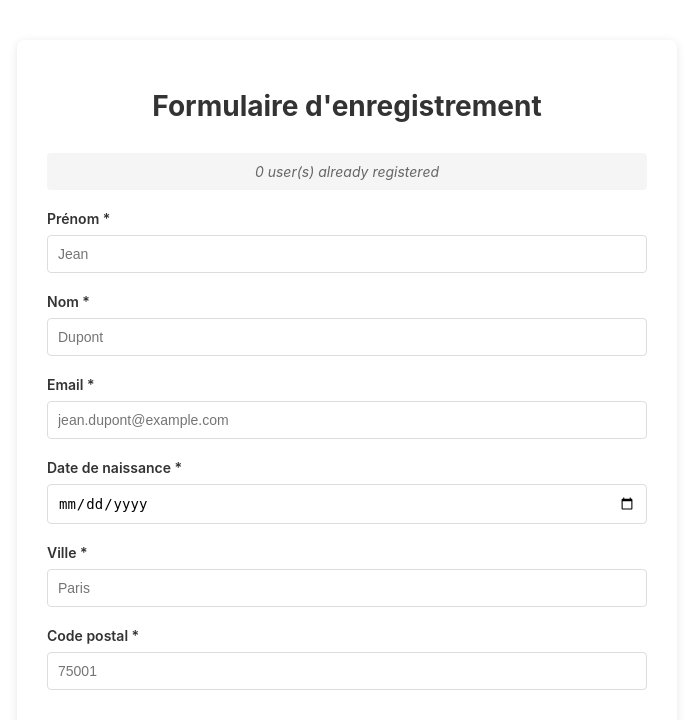
Test: RegisterForm Integration Tests › should show error for city with special characters
The image size is (695, 720).
Step 1. Type "Paris@" into the field with test id "input-city" → (347, 588), box 47,569 -> 647,607
(page scrolled)
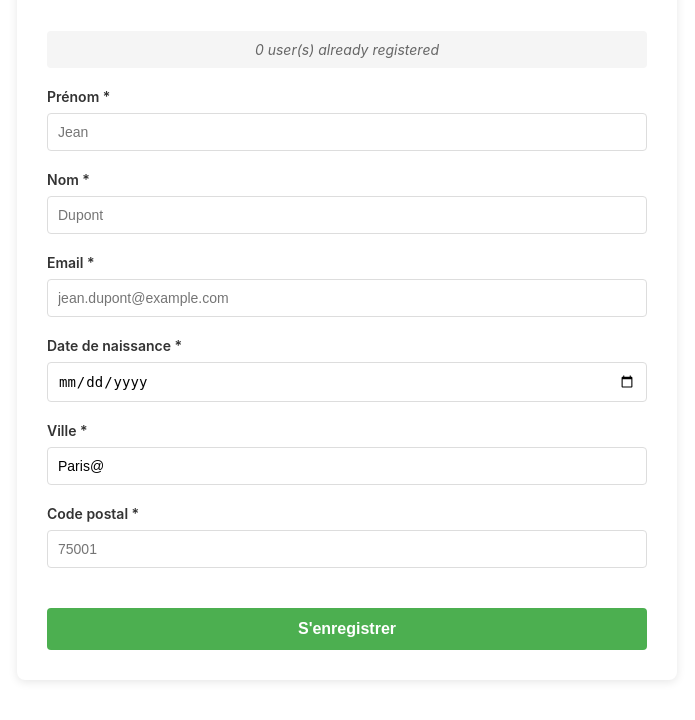
Step 2. Click the button "S'enregistrer" → (347, 629), box 47,608 -> 647,650
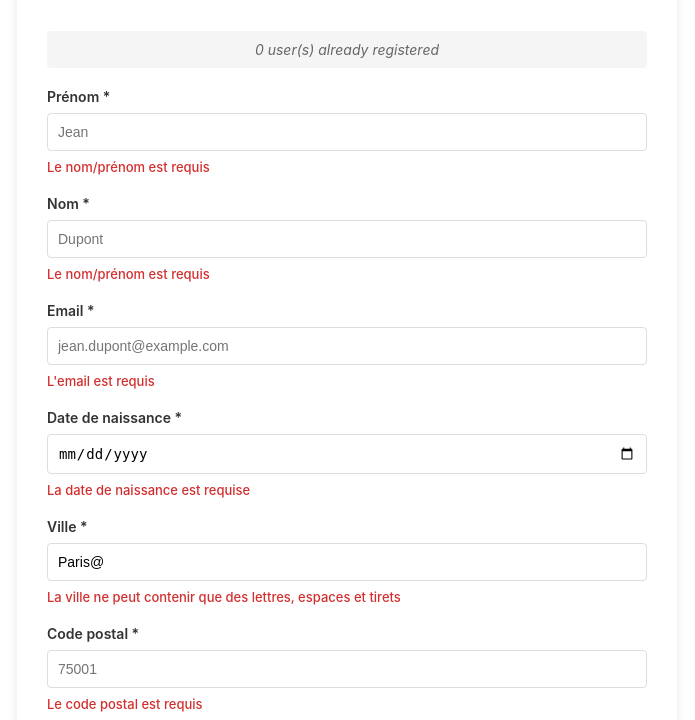
Now the text "La ville ne peut contenir que des lettres, espaces et tirets" is shown, box 47,589 -> 401,605
